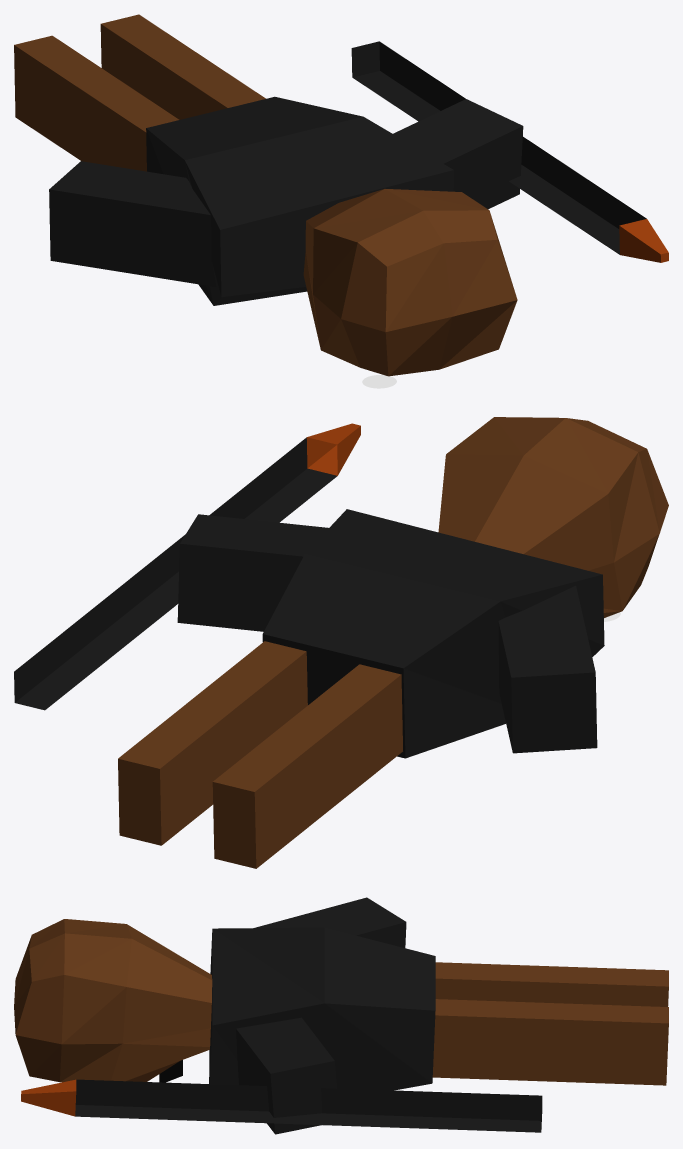
Rendered from spearman3d.obj.
3 renders of one model, top to bottom at view 1: azimuth 30°, elevation 25°; view 2: azimuth 150°, elevation 25°; view 3: azimuth 270°, elevation 25°, orthographic. The views are drawn at different scales.
Parts seen in each view (by area): view 1: Cube.001, Cube, Cube.003, Cube.004, Cube.007, Cube.005, Cube.002; view 2: Cube.001, Cube, Cube.004, Cube.005, Cube.007, Cube.003, Cube.002; view 3: Cube.001, Cube, Cube.005, Cube.007, Cube.004, Cube.002, Cube.003.
Part boxes in pixels (bbox=[...]): Cube.001: bbox=[146, 96, 453, 305]; Cube: bbox=[303, 189, 517, 376]; Cube.003: bbox=[49, 161, 215, 286]; Cube.004: bbox=[14, 35, 179, 171]; Cube.007: bbox=[351, 41, 668, 262]; Cube.005: bbox=[100, 14, 265, 119]; Cube.002: bbox=[393, 99, 523, 209]; Cube.001: bbox=[262, 509, 604, 758]; Cube: bbox=[438, 417, 668, 617]; Cube.004: bbox=[212, 664, 402, 868]; Cube.005: bbox=[118, 641, 307, 845]; Cube.007: bbox=[14, 423, 360, 710]; Cube.003: bbox=[498, 585, 597, 753]; Cube.002: bbox=[177, 514, 328, 631]; Cube.001: bbox=[209, 927, 435, 1090]; Cube: bbox=[14, 919, 212, 1082]; Cube.005: bbox=[432, 999, 668, 1085]; Cube.007: bbox=[21, 1079, 542, 1132]; Cube.004: bbox=[435, 962, 668, 1006]; Cube.002: bbox=[236, 1017, 336, 1134]; Cube.003: bbox=[253, 897, 406, 947].
Size of the model in its own units: 3.88 by 1.6 by 5.87.
